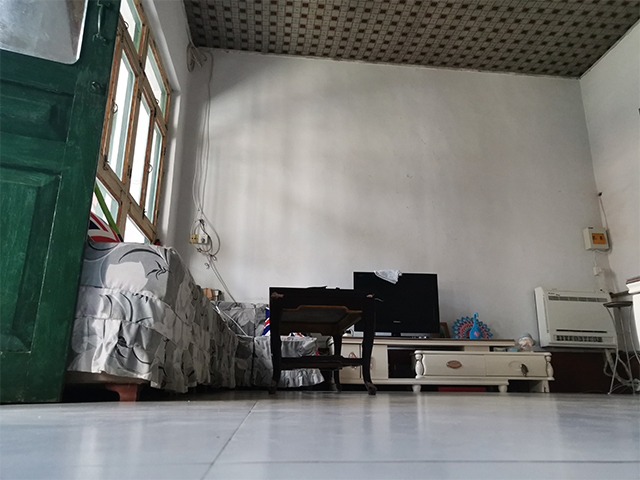cabinet: (323, 333, 557, 394)
sofa: (64, 234, 325, 404)
table: (265, 284, 378, 395)
